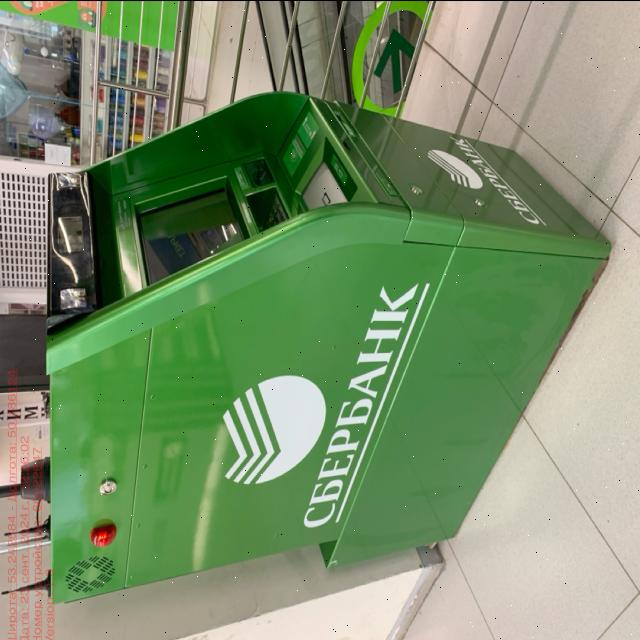bank: (48, 93, 615, 606)
